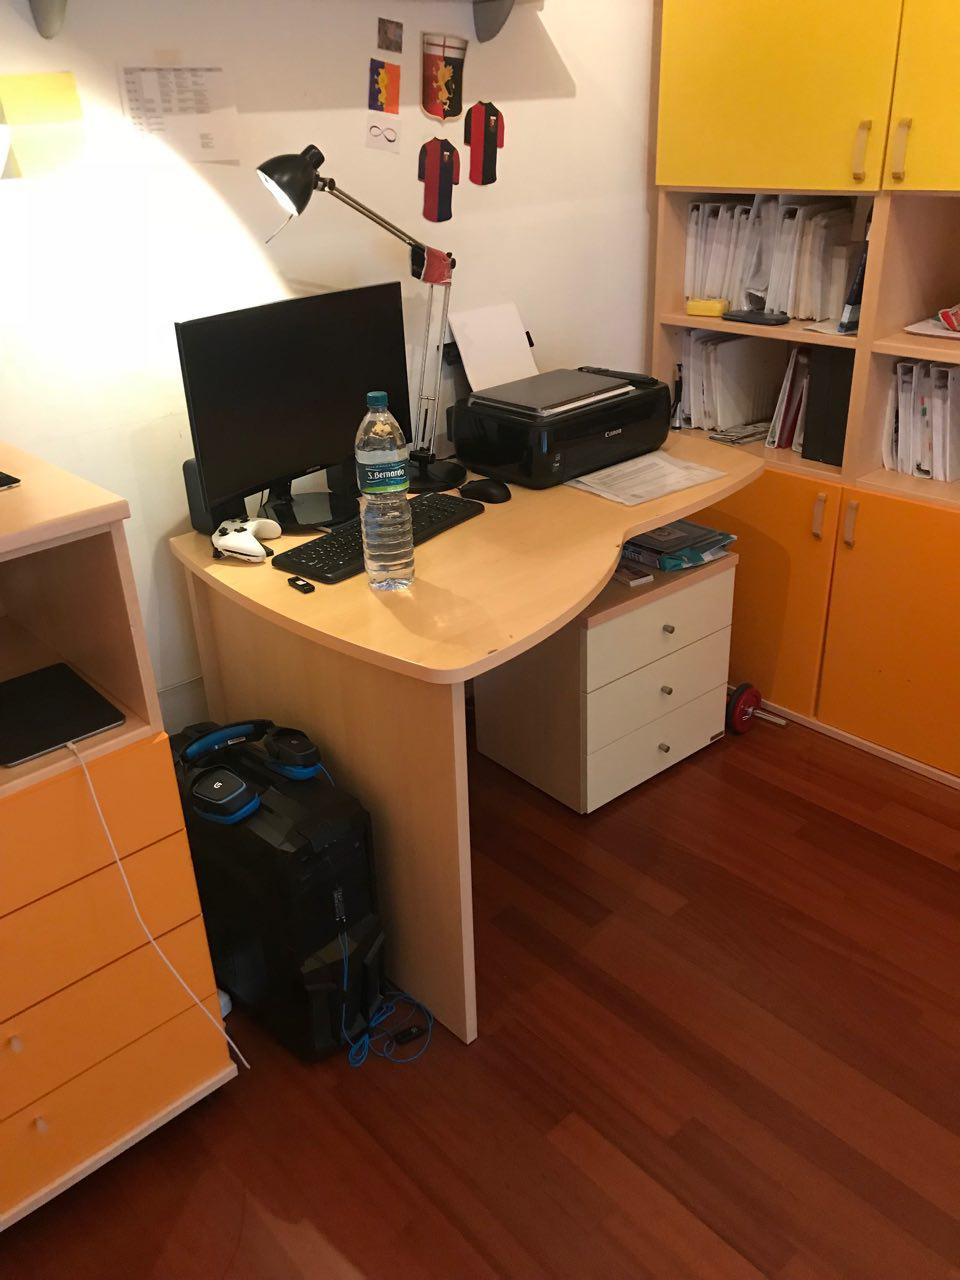san_bernardo: (353, 391, 414, 592)
